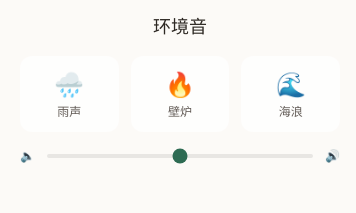
Scenario: AmbientPlayer › 播放控制 › 切换到另一个音效 → 暂停当前并新建
This screenshot has width=356, height=213.
Expected: the text "雨声" is shown, [57,104,81,120]
Click the button "🌧 雨声" at (69, 94), box [20,56,119,132]
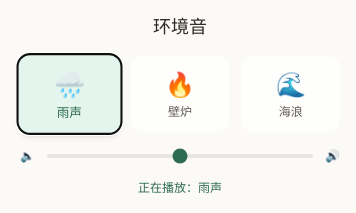
Click the button "🔥 壁炉" at (180, 94), box [131,56,229,132]
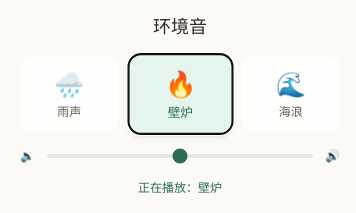
Expected: the text "正在播放：壁炉" is shown, [138,180,222,196]
